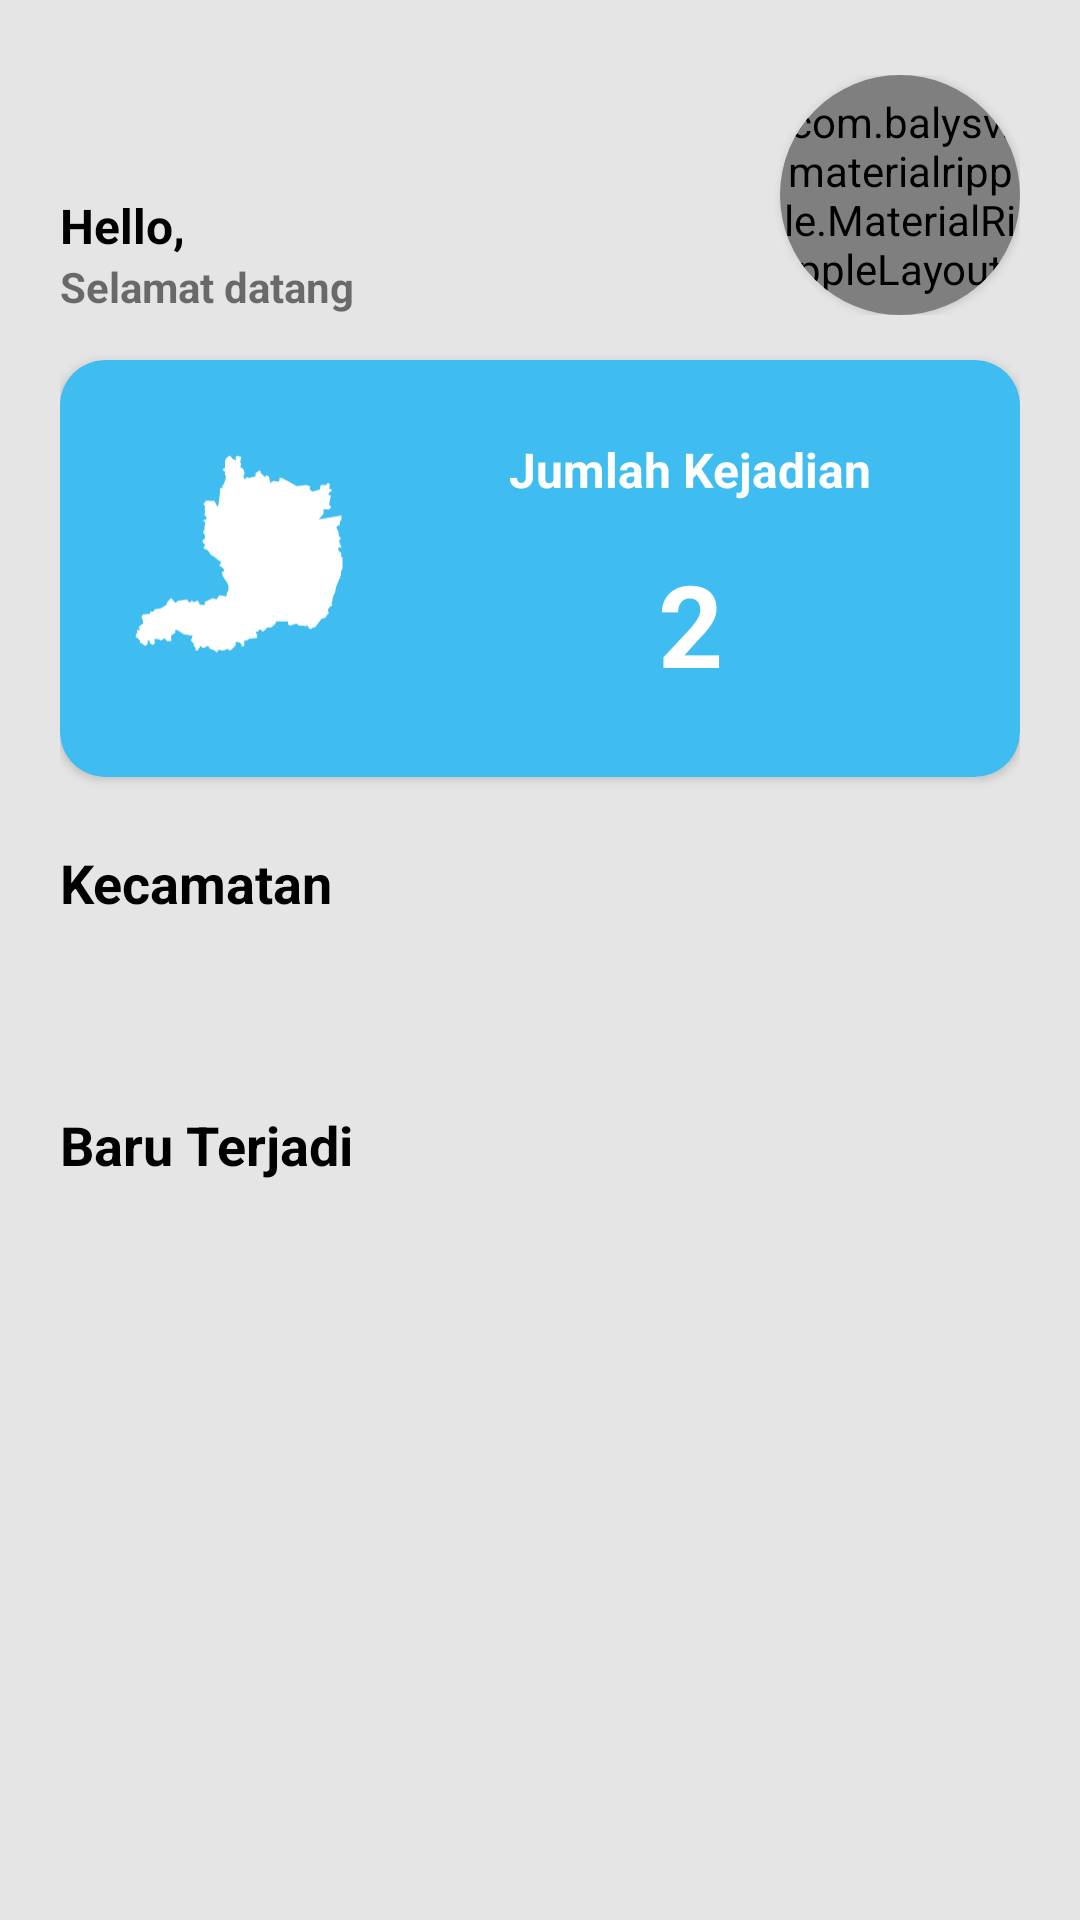

Locate icon controls on the screen. Image size 1080px×1920px, boxes as region(x1, y1, x2, y2).
map: region(135, 455, 343, 653)
